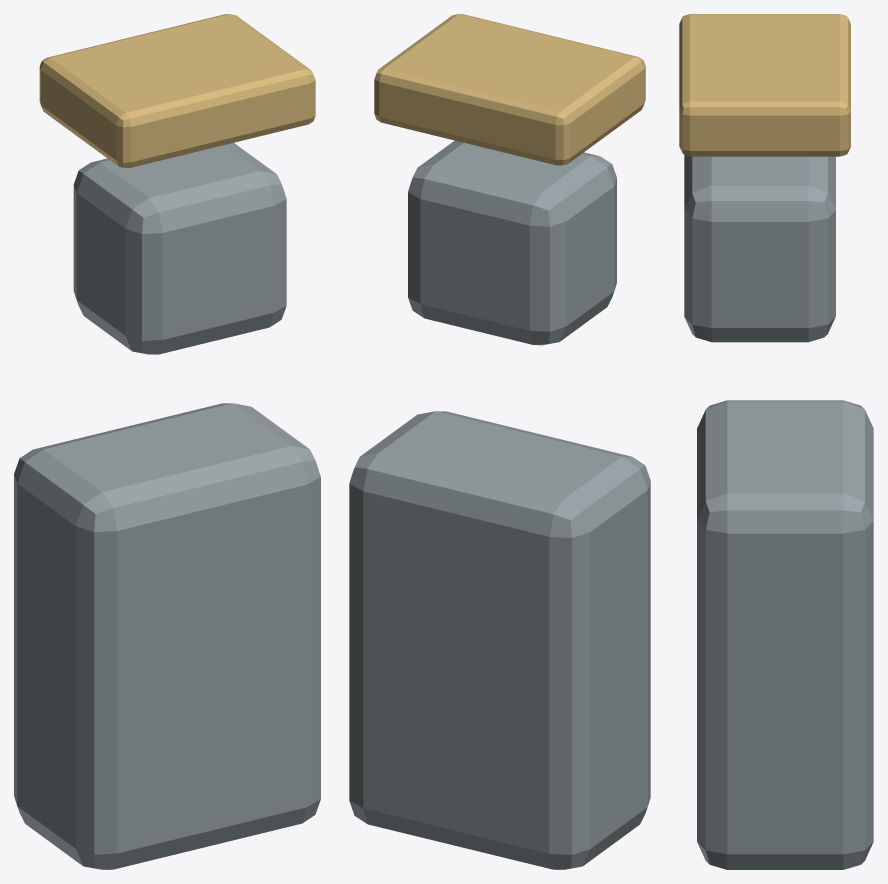
Rendered from boss_barrow_jarl_placeholder_v1.glb.
3 views of the same model, side by side, from view 1: azimuth 30°, elevation 25°; view 2: azimuth 150°, elevation 25°; view 3: azimuth 270°, elevation 25° (orthographic).
Parts seen in each view (by area): view 1: Body, Head, Crown; view 2: Body, Head, Crown; view 3: Body, Head, Crown.
Boxes of the visible parts, left/top/right/bottom form: Body: left=14, top=403, right=320, bottom=869; Head: left=73, top=142, right=286, bottom=354; Crown: left=39, top=14, right=315, bottom=168; Body: left=349, top=411, right=650, bottom=869; Head: left=408, top=140, right=616, bottom=345; Crown: left=374, top=14, right=645, bottom=165; Body: left=697, top=400, right=873, bottom=869; Head: left=684, top=155, right=835, bottom=342; Crown: left=679, top=14, right=850, bottom=156.
Bounding box in the file's own units: 0.55 × 1.67 × 0.385.
